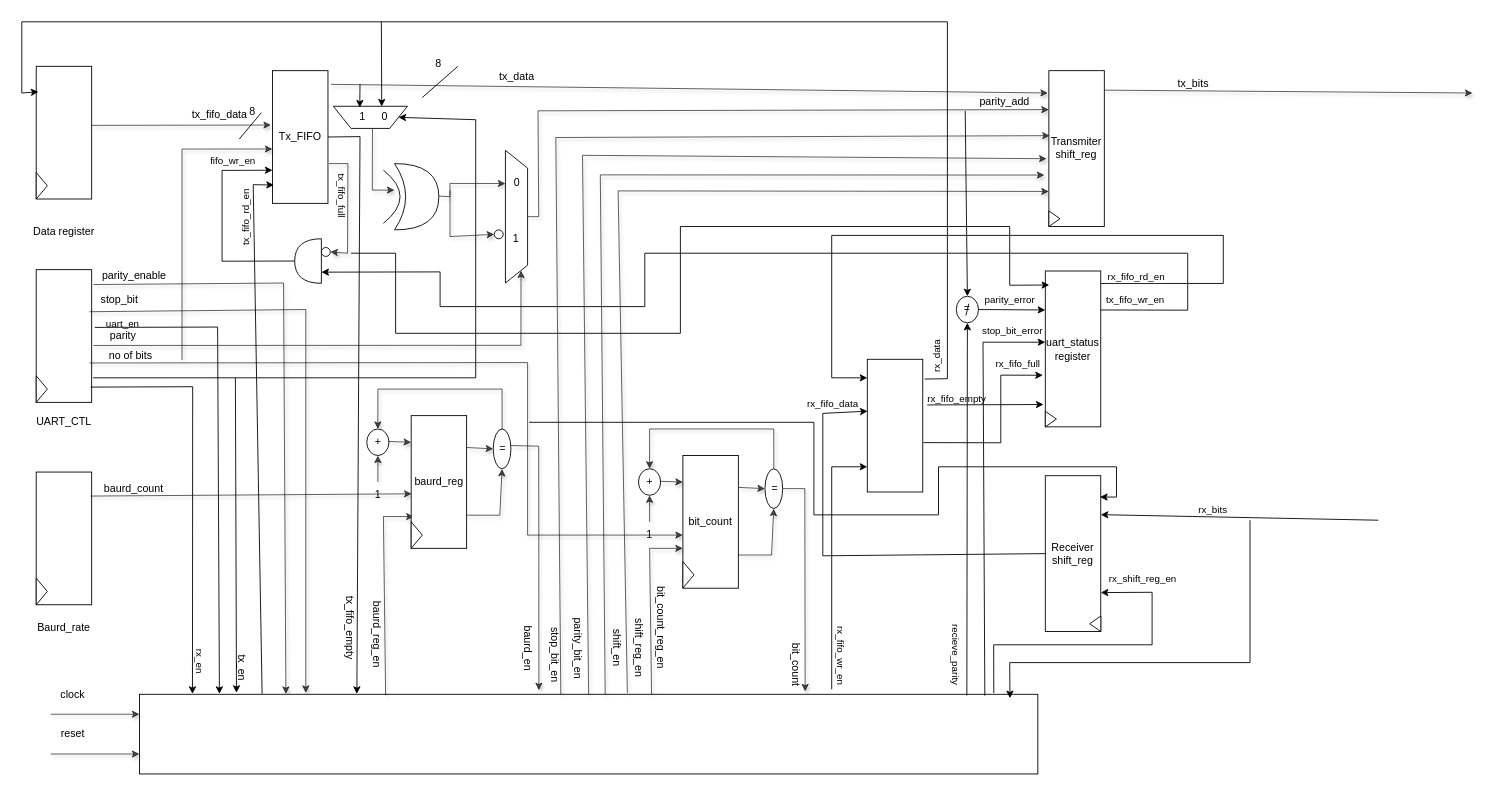
This 1501x790 diagram has some shape labels left out. The shapes that lost their labels are listed below. From the top down, each one's centre as x and y in pixels, then its label:
At (x=894, y=425): "Rx_FIFO".
At (x=588, y=733): "controller".
